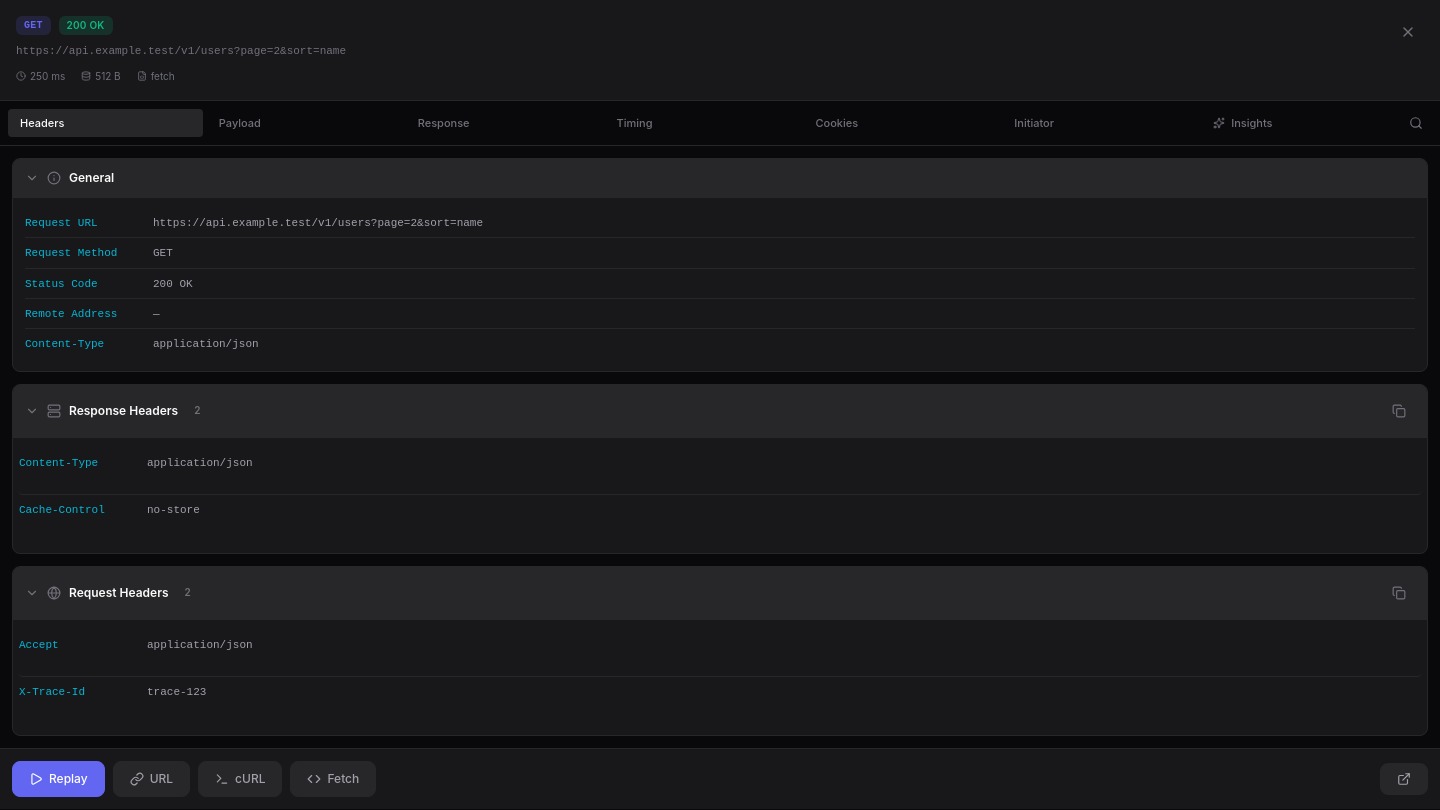
NetworkRequestDetails (HTTP) › shows empty payload states
Click the button "Payload": (304,123) left=207, top=109, right=402, bottom=137
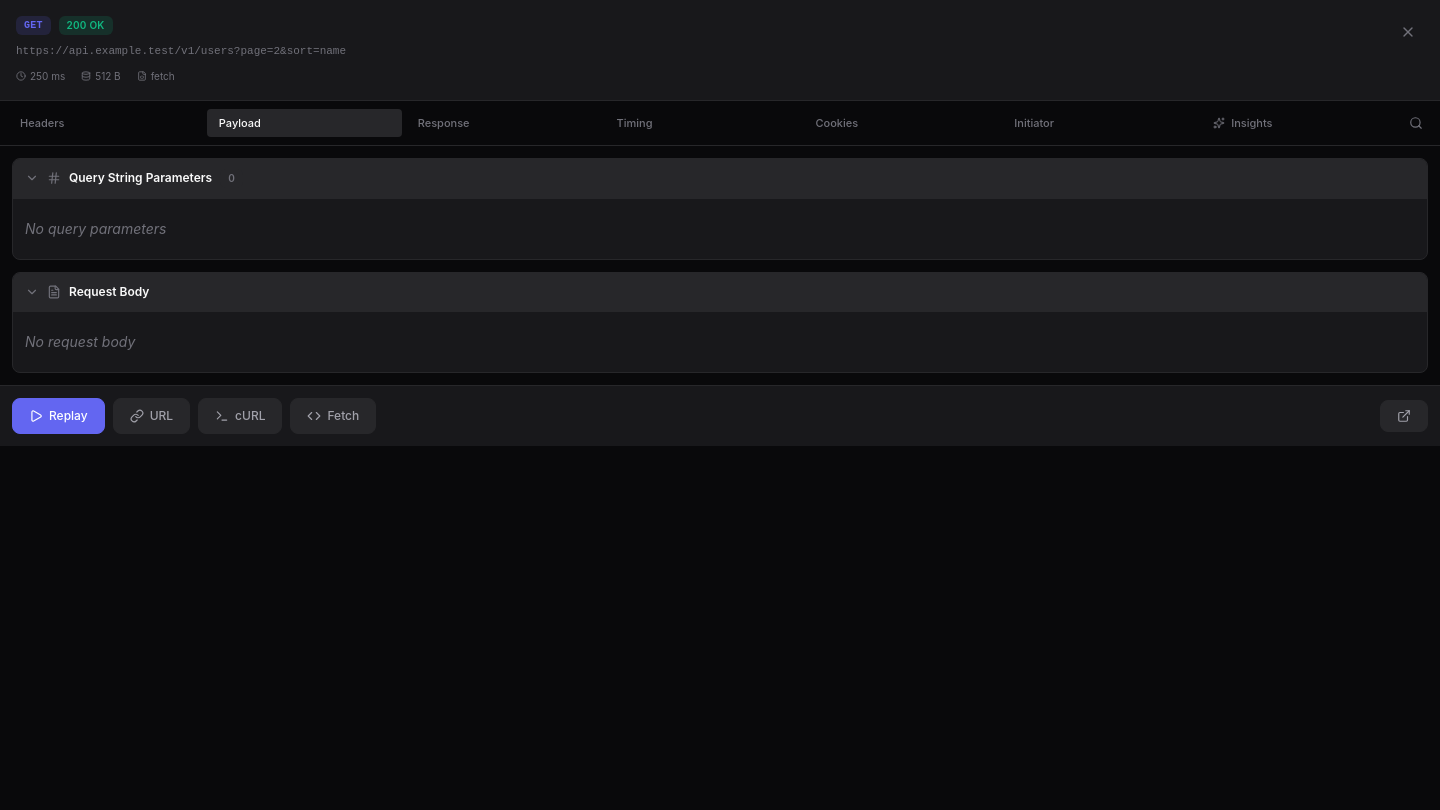
Now the text "No query parameters" is shown, box left=25, top=220, right=166, bottom=237
Now the text "No request body" is shown, box left=25, top=333, right=135, bottom=350
